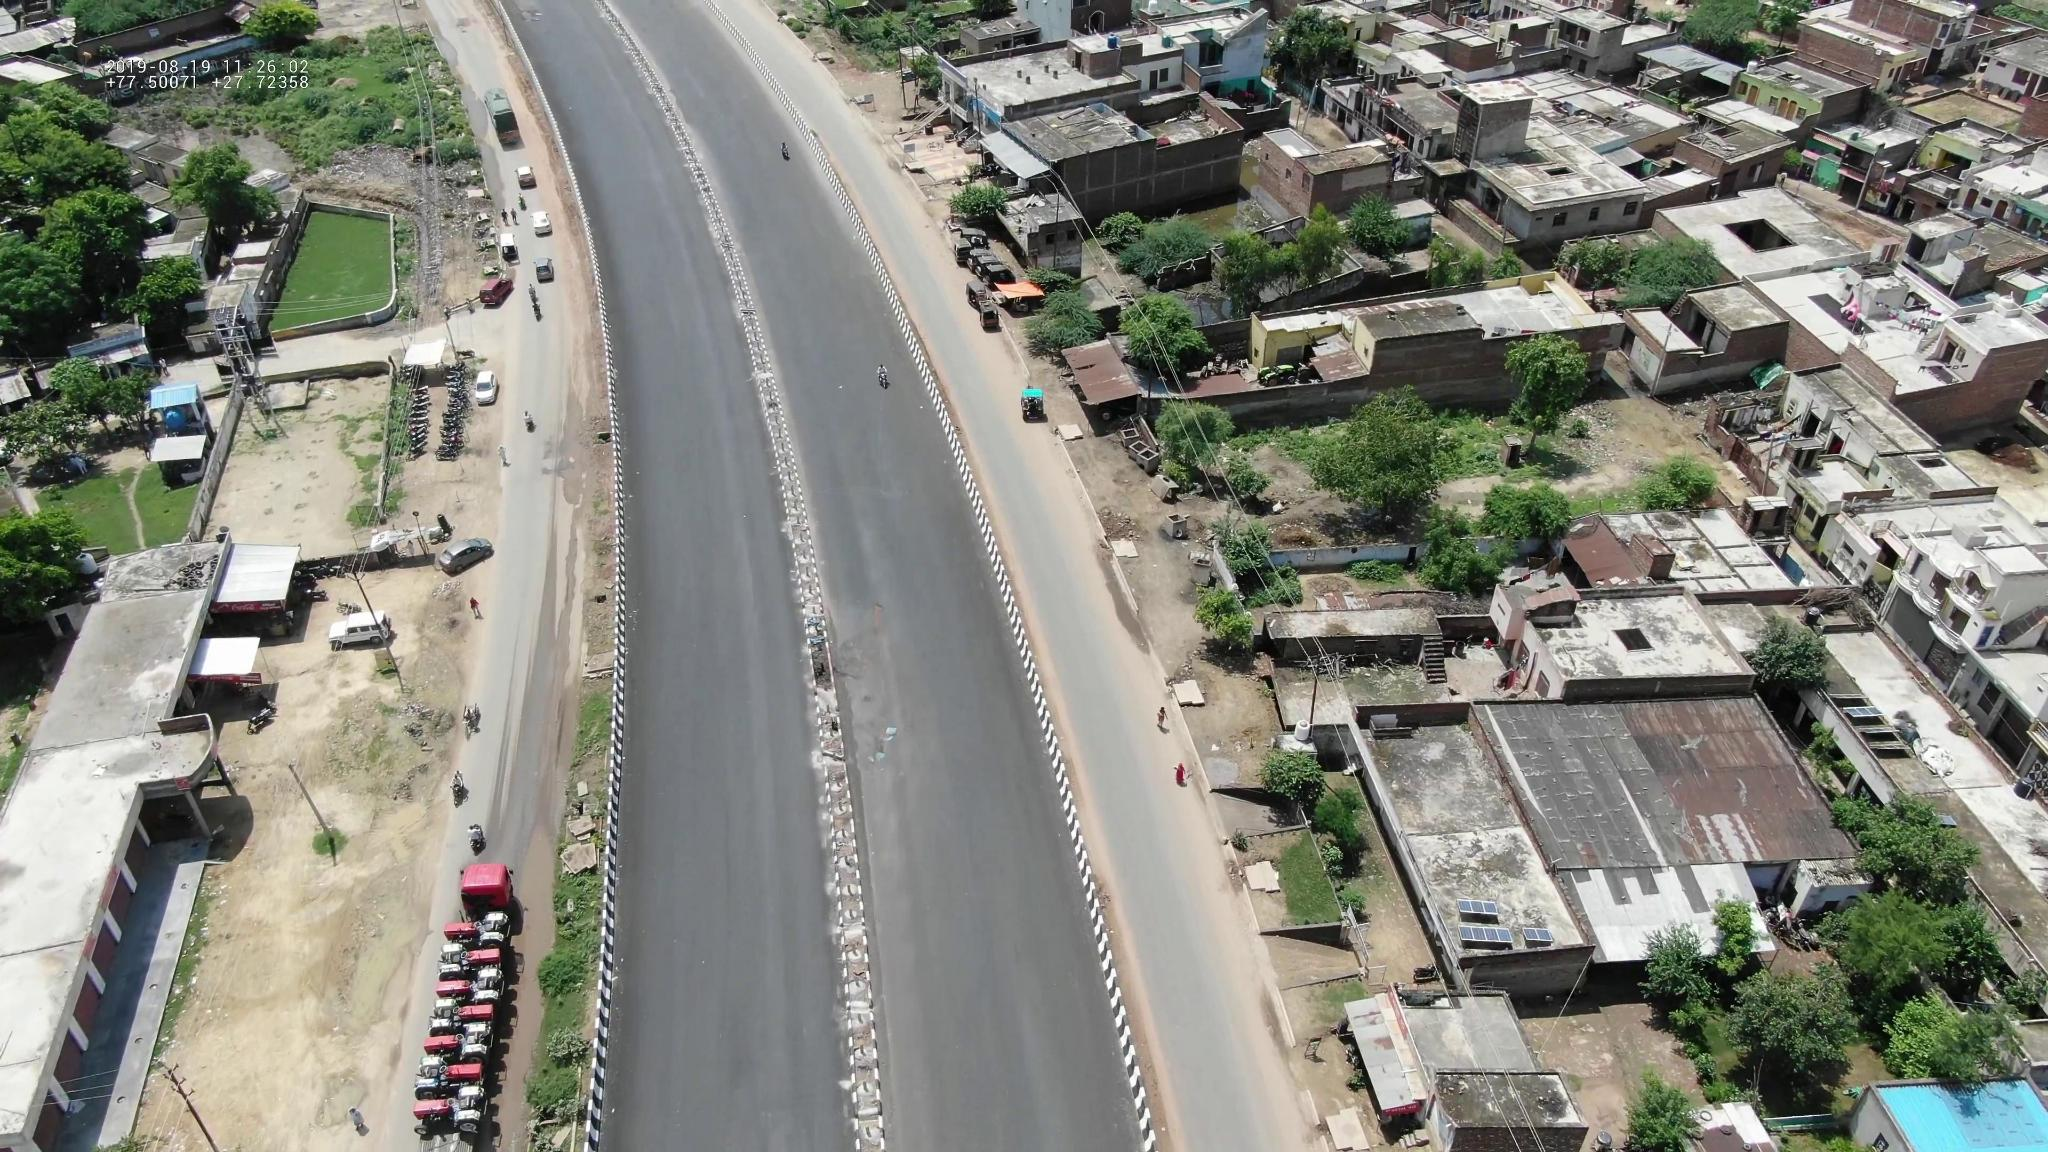Potholes: (850, 589, 902, 639)
